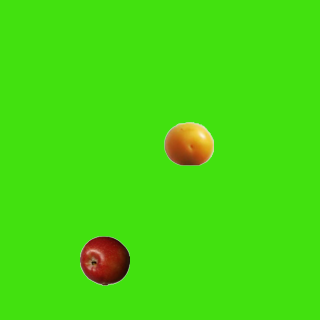Apple Braeburn: (79, 235, 129, 285)
Cherry Wax Yellow: (163, 118, 213, 168)
